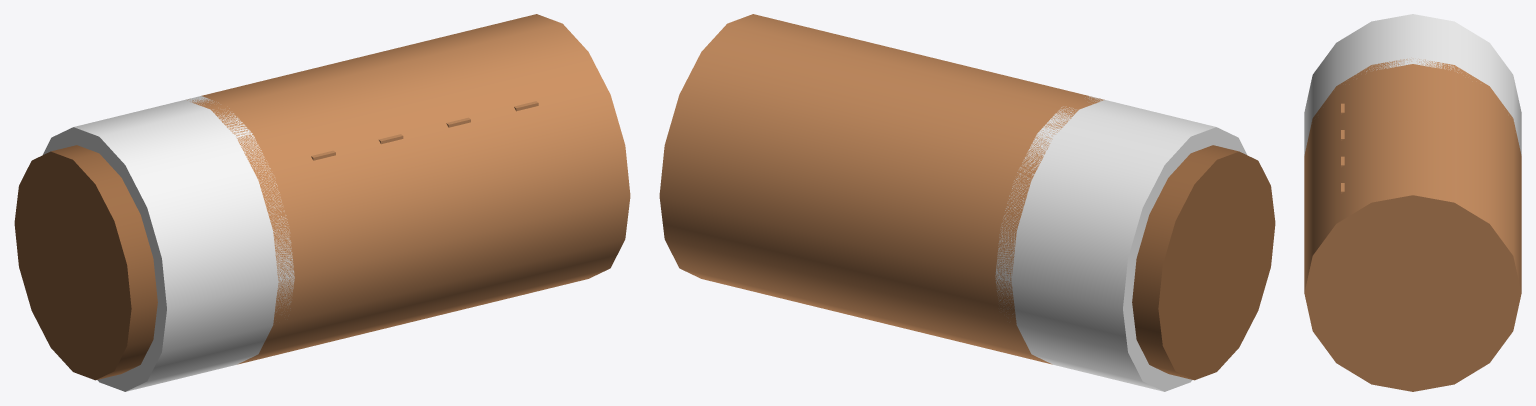
Rendered from CMU3DCigaretteSpentPrintedSmallCloud.glb.
3 renders of one model, left to right at view 1: azimuth 30°, elevation 25°; view 2: azimuth 150°, elevation 25°; view 3: azimuth 270°, elevation 25°, orthographic. The views are drawn at different scales.
Parts seen in each view (by area): view 1: remaining filter plug, short white paper collar, cooled grey cut end; view 2: remaining filter plug, short white paper collar, cooled grey cut end; view 3: remaining filter plug, short white paper collar.
Part boxes in pixels (x1,y1,x2,y2): remaining filter plug: (187, 14, 630, 364); short white paper collar: (43, 96, 294, 391); cooled grey cut end: (14, 145, 157, 380); remaining filter plug: (659, 14, 1104, 364); short white paper collar: (995, 96, 1246, 391); cooled grey cut end: (1132, 145, 1275, 380); remaining filter plug: (1304, 59, 1521, 391); short white paper collar: (1304, 14, 1521, 155).
Bounding box in the file's own units: 0.1304 × 0.0625 × 0.0625.
